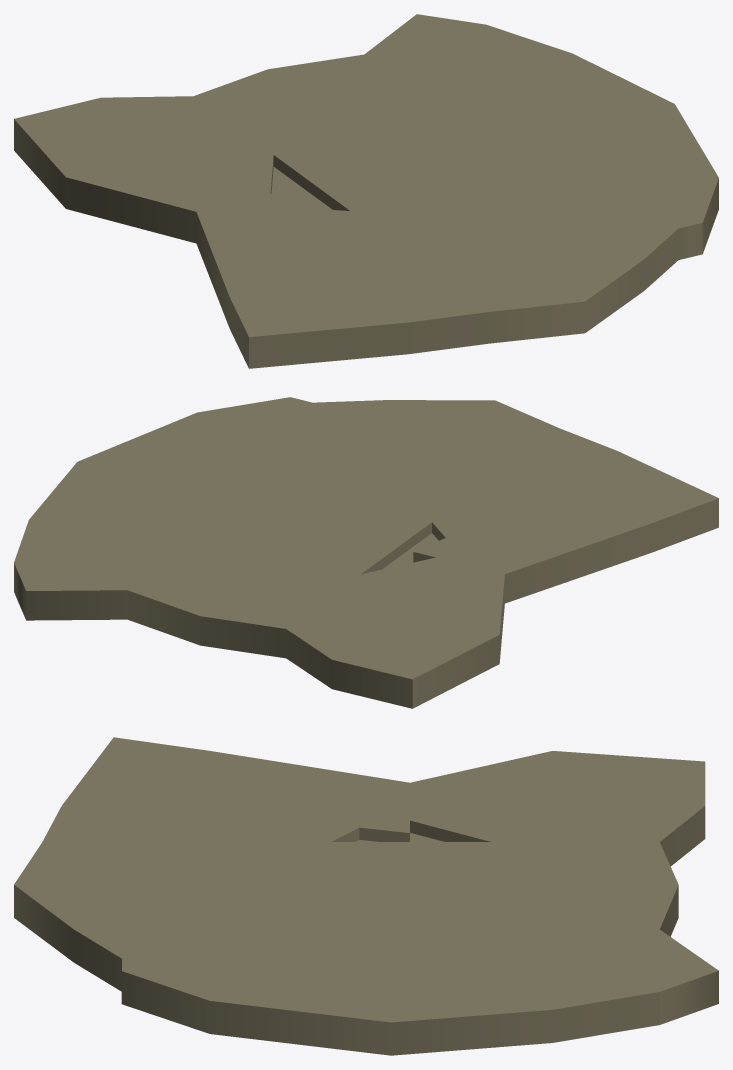
Rendered from StepStone1.fbx.
The picture shows the model from 3 angles, top to bottom: view 1: azimuth 30°, elevation 25°; view 2: azimuth 150°, elevation 25°; view 3: azimuth 270°, elevation 25°; orthographic projection. The views are drawn at different scales.
Parts seen in each view (by area): view 1: step2; view 2: step2; view 3: step2.
Part boxes in pixels (bbox=[...]): step2: bbox=[14, 14, 718, 368]; step2: bbox=[14, 397, 718, 708]; step2: bbox=[14, 737, 718, 1055].
Bounding box in the file's own units: 1.73 × 0.094 × 1.81.
